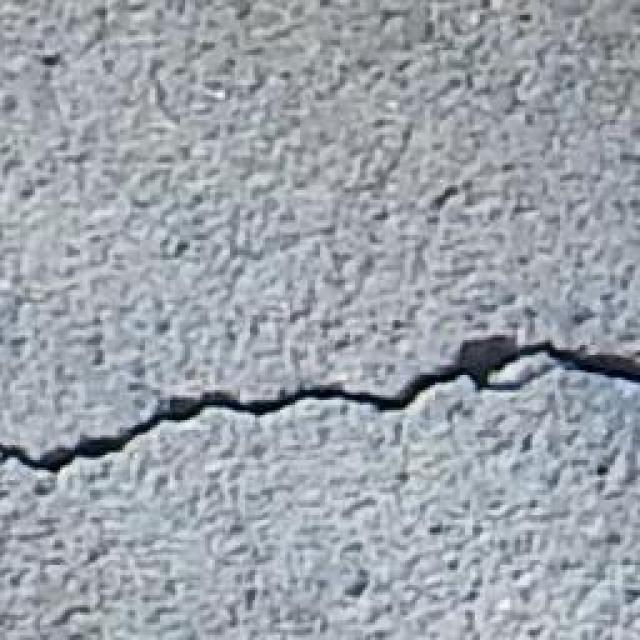concrete-crack: (0, 334, 640, 472)
